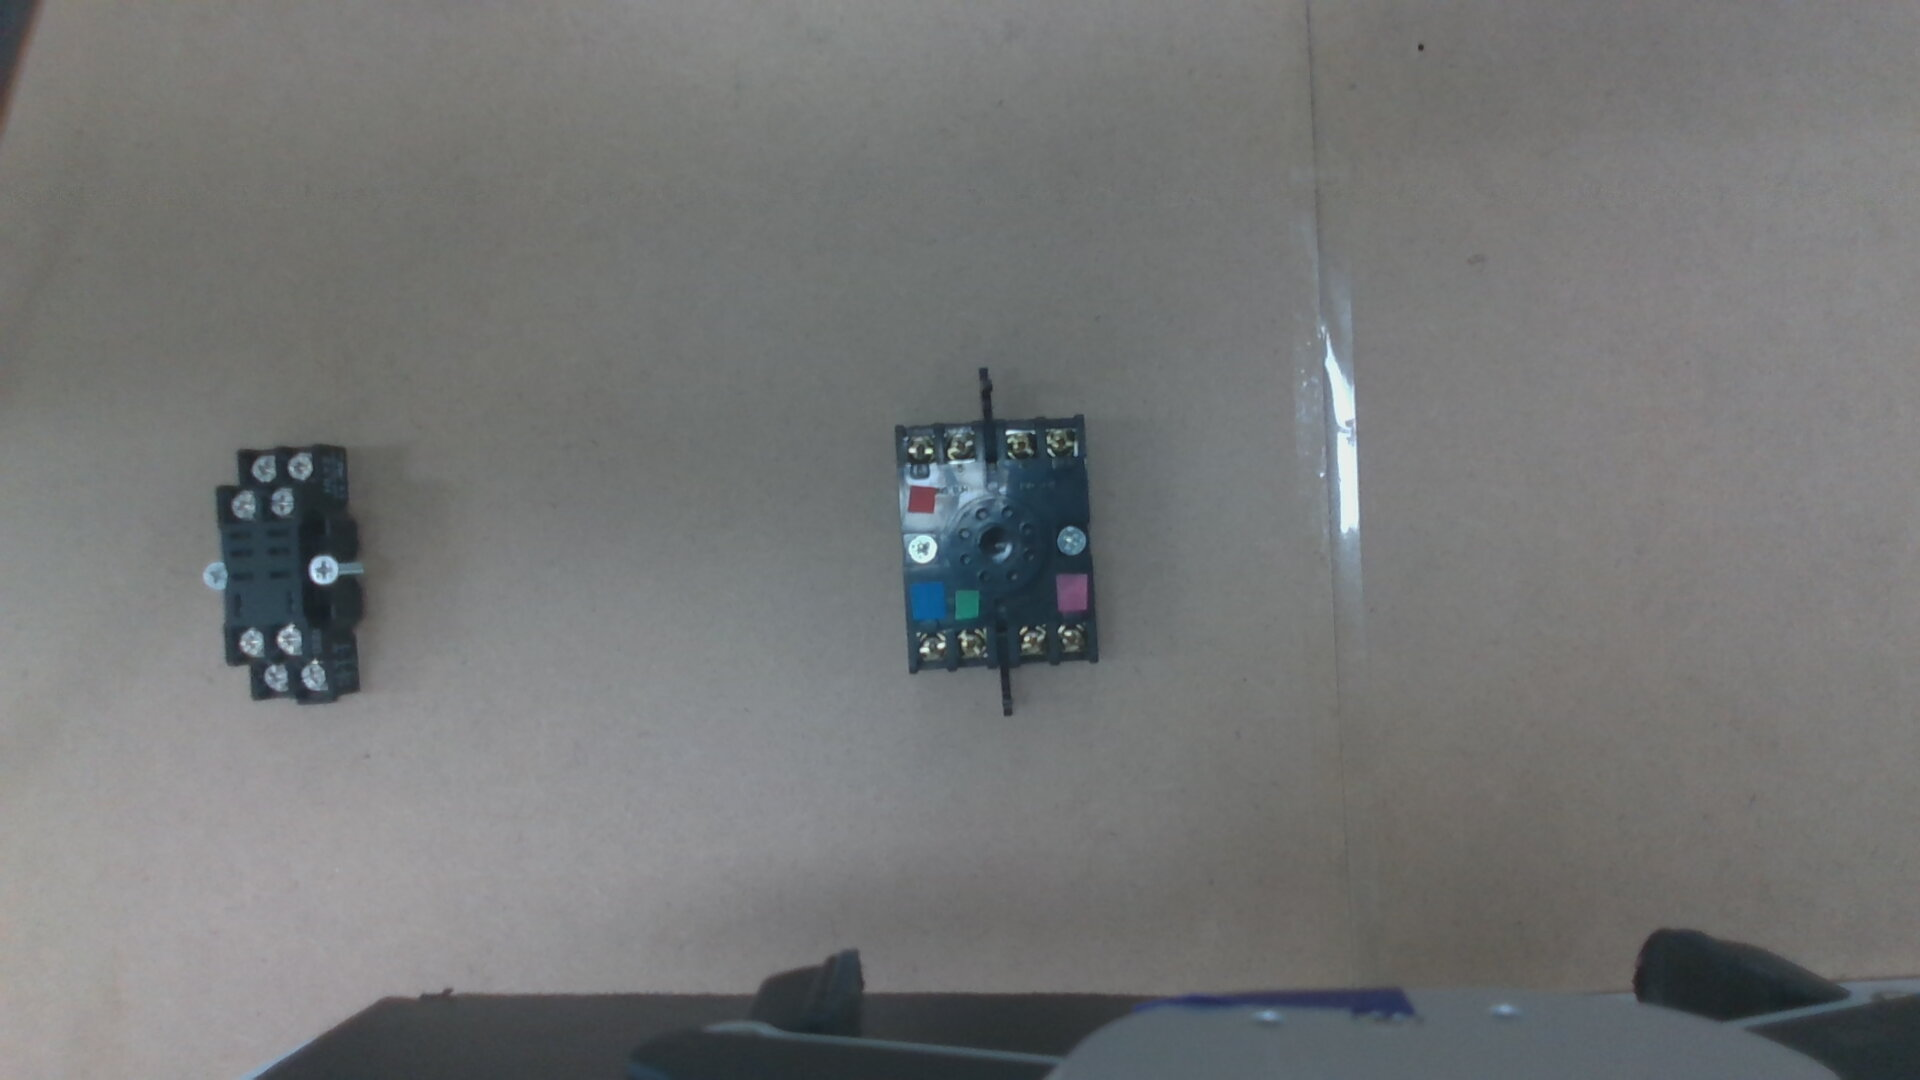timer 2: (1058, 624, 1087, 651)
timer 6: (905, 434, 934, 462)
timer 7: (916, 633, 945, 661)
timer 8: (957, 632, 988, 661)
